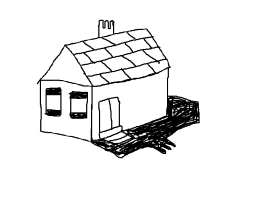chimney: (94, 9, 119, 42)
door: (97, 96, 128, 140)
open_window: (43, 82, 66, 121), (68, 90, 92, 123)
roof: (28, 28, 176, 85)
shadow: (93, 96, 213, 162)
wall: (87, 67, 174, 144), (34, 75, 95, 144)
